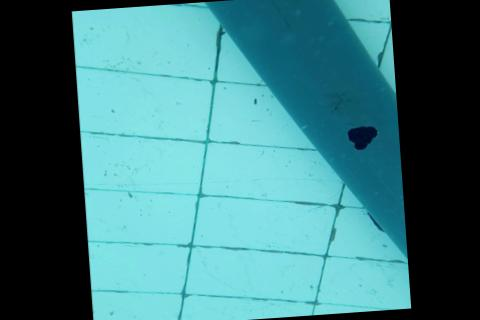kebocoran: (345, 124, 379, 152)
